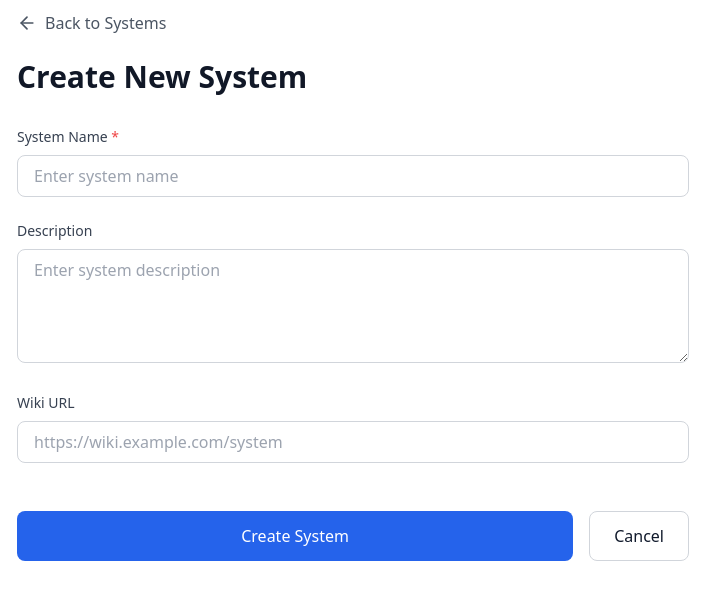
Test case: SystemForm › validation › should show error when system name is empty
This screenshot has width=706, height=603.
Click the button "Create System".
click(295, 536)  # box [17,511,573,561]
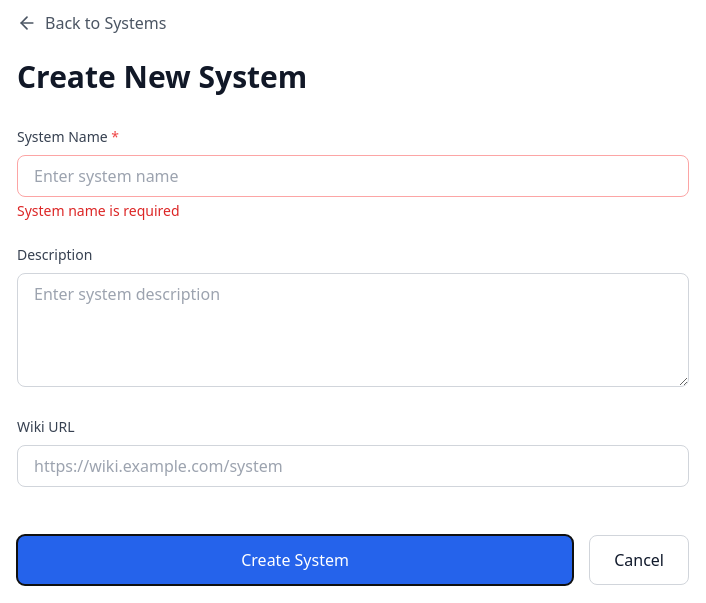
Check: the text "System name is required" is shown, box [17,201,180,220]
